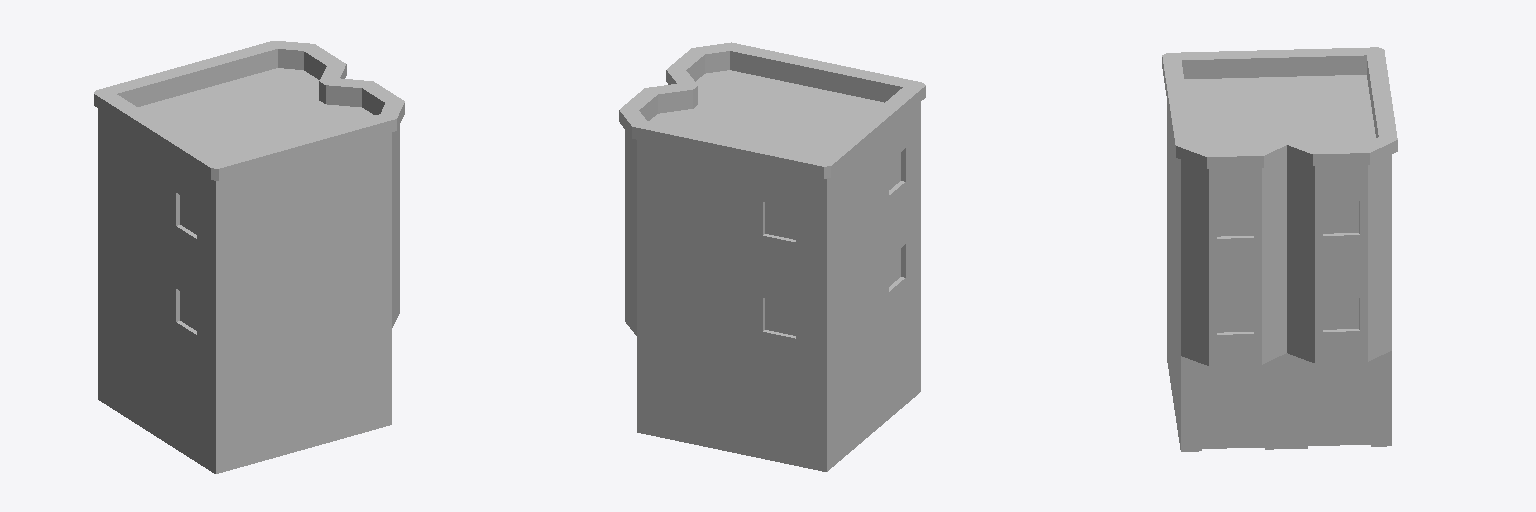
Rendered from variant_38.obj.
The picture shows the model from 3 angles: view 1: azimuth 30°, elevation 25°; view 2: azimuth 150°, elevation 25°; view 3: azimuth 270°, elevation 25°; orthographic projection.
Visible parts, largest first — view 1: Building; view 2: Building; view 3: Building.
Boxes of the visible parts, <box> form: Building: <box>94,41,404,473</box>; Building: <box>619,42,925,471</box>; Building: <box>1162,47,1397,451</box>.
Bounding box in the file's own units: 0.9826 × 1.28 × 0.8891.